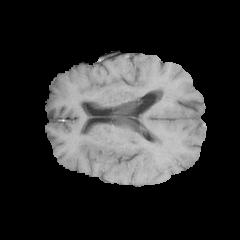glioma: (84, 136, 176, 169)
